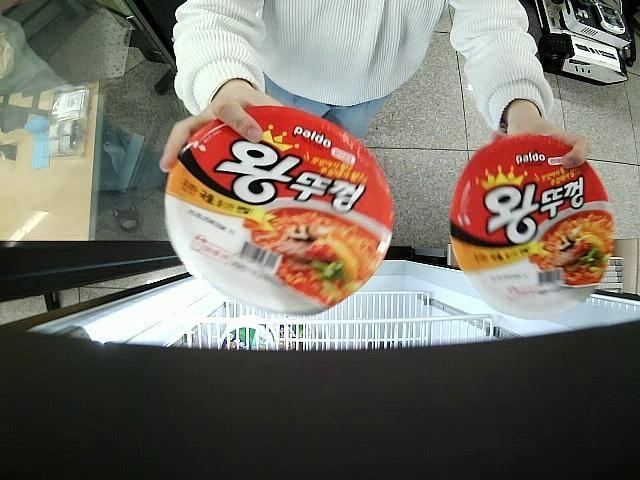10_wangTtukkeong: (166, 105, 394, 316), (450, 134, 615, 320)
